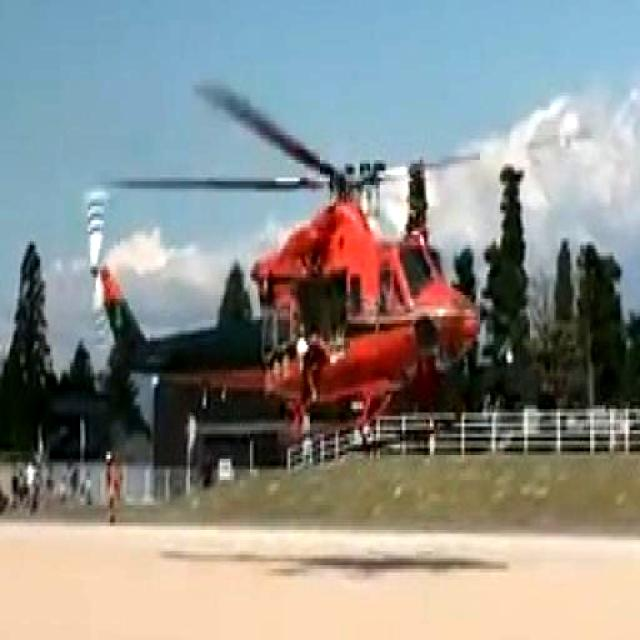drone: (79, 101, 472, 458)
